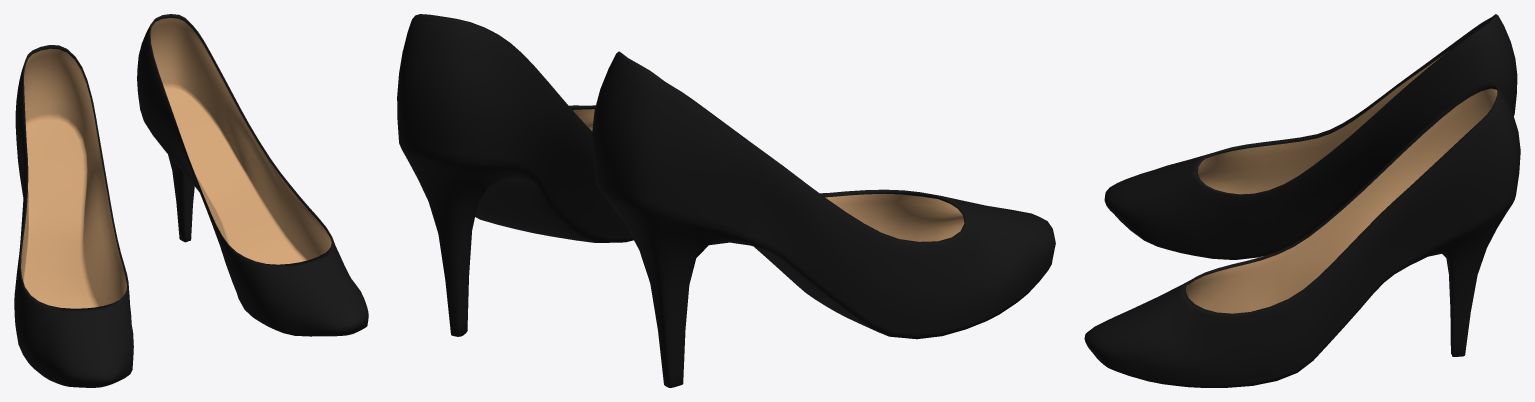
The model's file is woman_shoes.glb.
The picture shows the model from 3 angles, left to right: view 1: azimuth 30°, elevation 25°; view 2: azimuth 150°, elevation 25°; view 3: azimuth 270°, elevation 25°; orthographic projection. The views are drawn at different scales.
Visible parts, largest first — view 1: left_shoe_Plane.001, right_shoe_Plane.005; view 2: right_shoe_Plane.005, left_shoe_Plane.001; view 3: left_shoe_Plane.001, right_shoe_Plane.005.
Part boxes in pixels (x1=…): left_shoe_Plane.001: x1=137, y1=14, x2=368, y2=336; right_shoe_Plane.005: x1=14, y1=45, x2=133, y2=387; right_shoe_Plane.005: x1=592, y1=51, x2=1055, y2=387; left_shoe_Plane.001: x1=397, y1=14, x2=633, y2=336; left_shoe_Plane.001: x1=1084, y1=83, x2=1520, y2=387; right_shoe_Plane.005: x1=1104, y1=14, x2=1517, y2=259.
Bounding box in the file's own units: 0.2474 × 0.1622 × 0.244.
